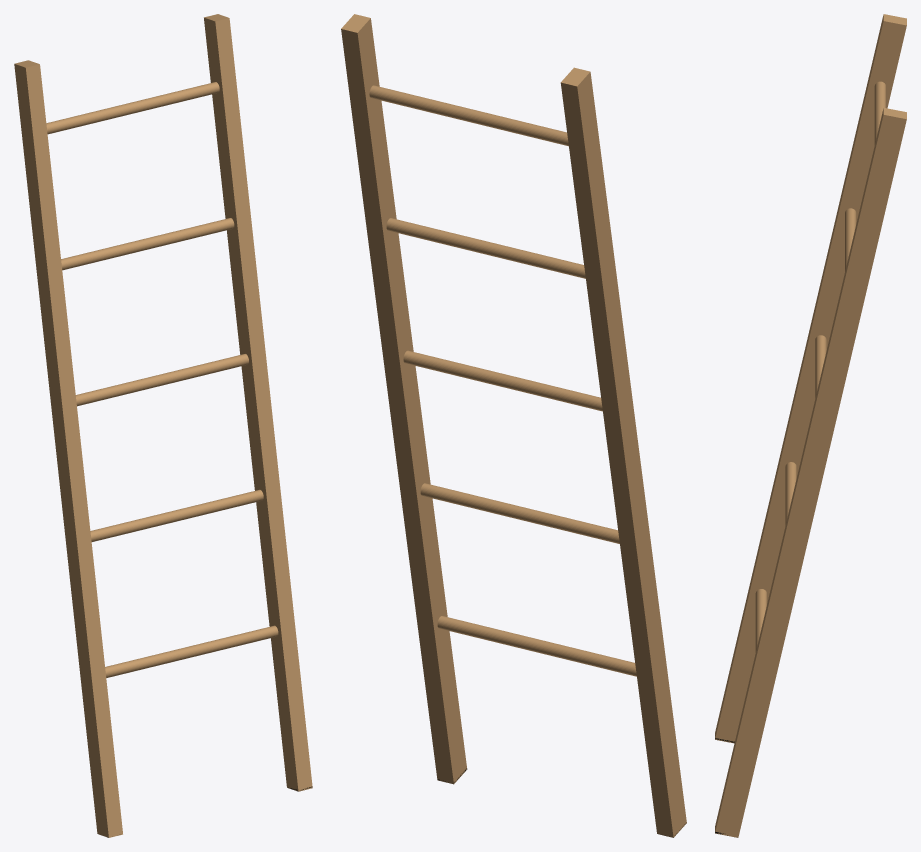
The model's file is 042_leaning_towel_ladder.glb.
The picture shows the model from 3 angles, left to right: view 1: azimuth 30°, elevation 25°; view 2: azimuth 150°, elevation 25°; view 3: azimuth 270°, elevation 25°; orthographic projection. The views are drawn at different scales.
Parts seen in each view (by area): view 1: 000_rail, 002_rail, 005_rung, 007_rung, 004_rung, 006_rung, 008_rung; view 2: 000_rail, 002_rail, 007_rung, 005_rung, 004_rung, 008_rung, 006_rung; view 3: 002_rail, 000_rail, 008_rung, 004_rung, 005_rung, 006_rung, 007_rung.
Boxes of the visible parts, left/top/right/bottom form: 000_rail: left=14, top=60, right=122, bottom=837; 002_rail: left=204, top=14, right=312, bottom=791; 005_rung: left=90, top=489, right=263, bottom=541; 007_rung: left=61, top=218, right=234, bottom=270; 004_rung: left=105, top=625, right=278, bottom=677; 006_rung: left=75, top=354, right=248, bottom=406; 008_rung: left=46, top=82, right=219, bottom=134; 000_rail: left=560, top=67, right=686, bottom=837; 002_rail: left=341, top=14, right=466, bottom=784; 007_rung: left=386, top=218, right=585, bottom=278; 005_rung: left=420, top=483, right=619, bottom=543; 004_rung: left=437, top=616, right=636, bottom=676; 008_rung: left=369, top=85, right=568, bottom=146; 006_rung: left=403, top=350, right=602, bottom=411; 002_rail: left=715, top=108, right=906, bottom=837; 000_rail: left=715, top=14, right=906, bottom=743; 008_rung: left=874, top=81, right=885, bottom=144; 004_rung: left=755, top=589, right=766, bottom=652; 005_rung: left=785, top=462, right=796, bottom=525; 006_rung: left=815, top=335, right=826, bottom=397; 007_rung: left=845, top=208, right=856, bottom=271.
Bounding box in the file's own units: 0.5 × 1.67 × 0.4024.
